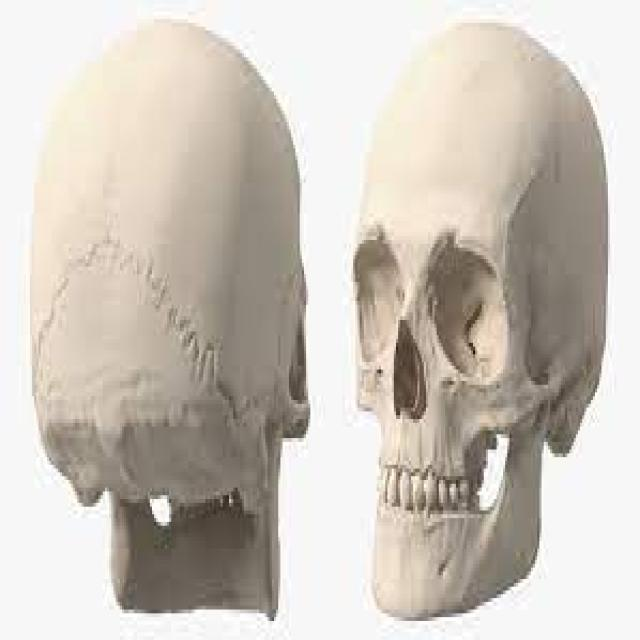skull: (337, 23, 618, 627)
